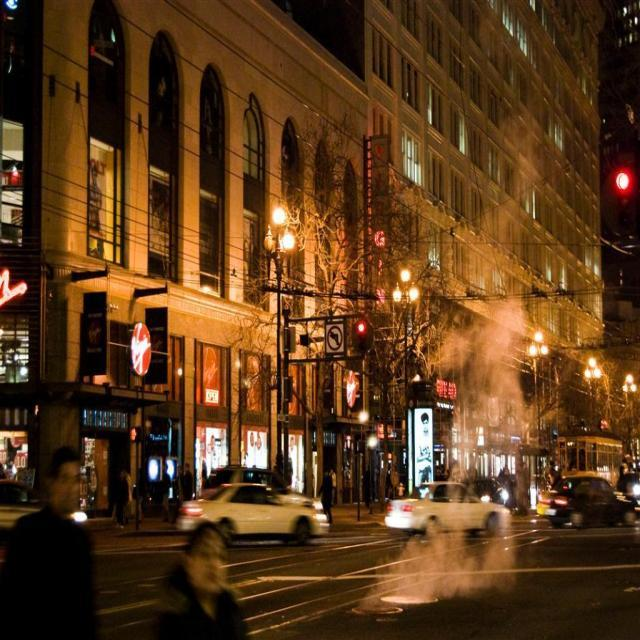traffic light: (615, 166, 634, 224), (357, 319, 368, 354)
